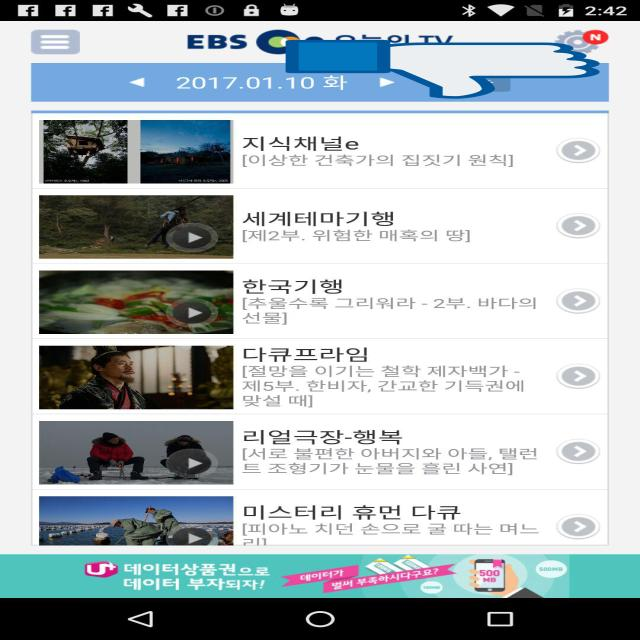obstruction: (286, 39, 600, 100)
